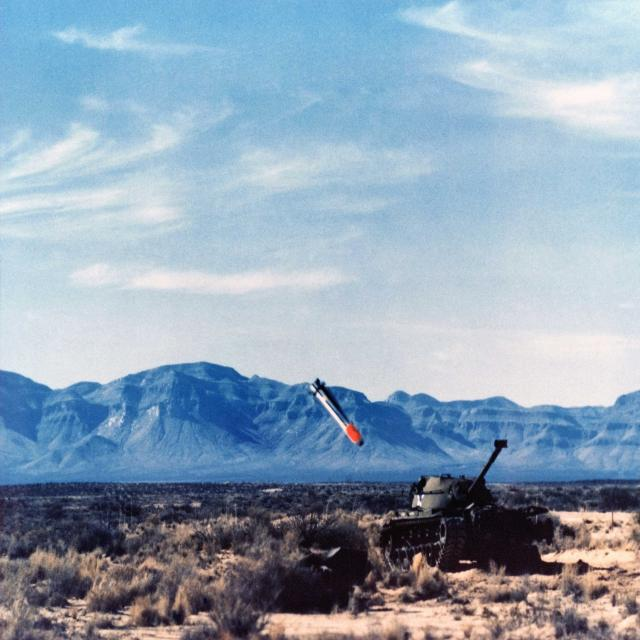missile: (307, 370, 365, 447)
